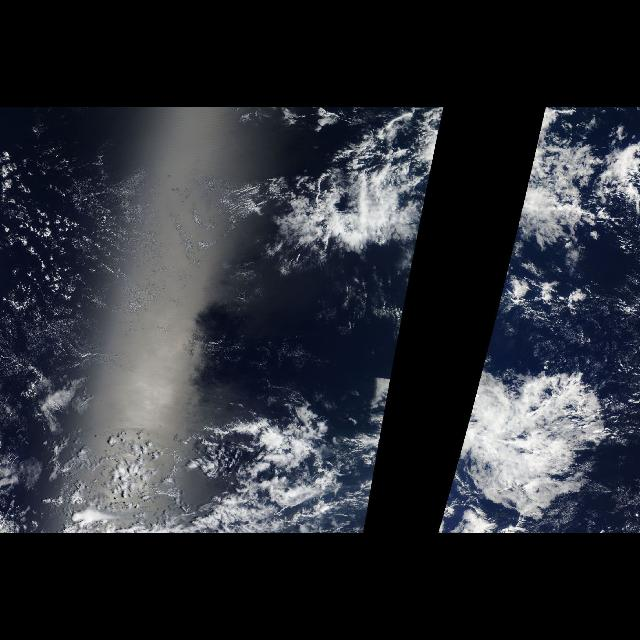Sugar: (0, 116, 204, 374)
